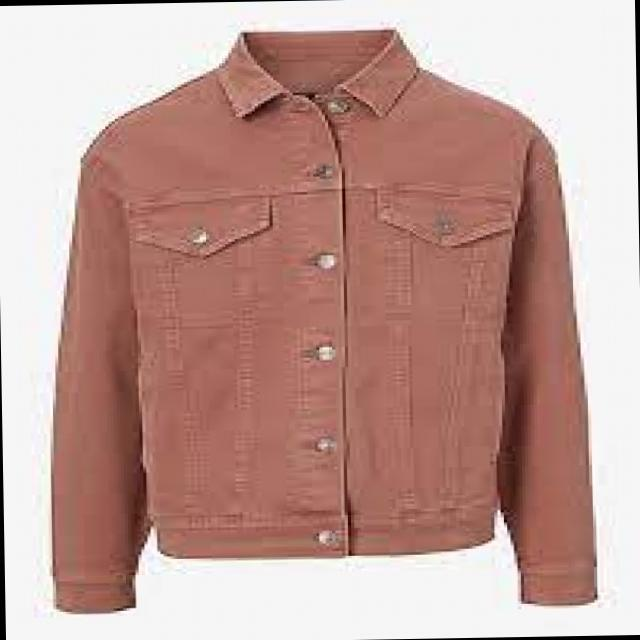Jacket: (0, 20, 586, 627)
